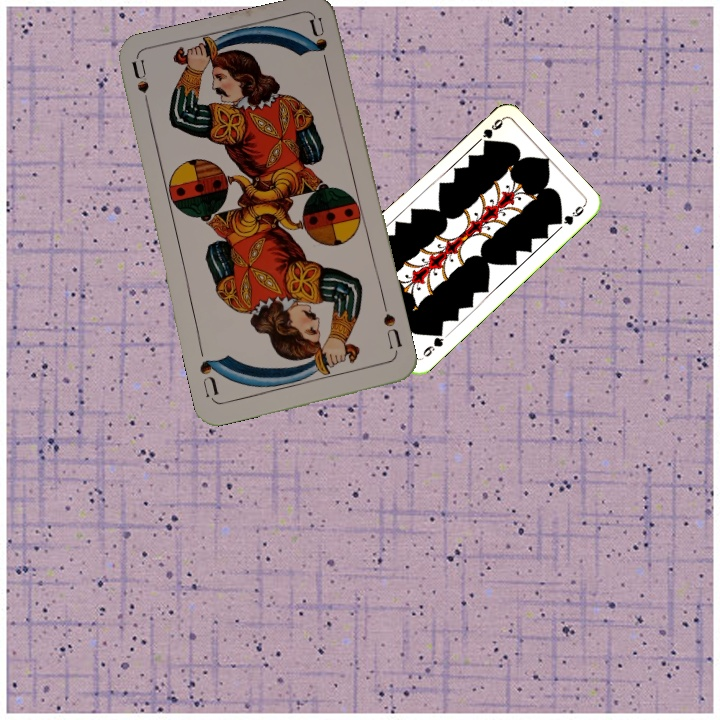G9: (479, 114, 506, 147), (419, 327, 446, 359)
SU: (128, 58, 154, 118), (379, 309, 405, 359)
